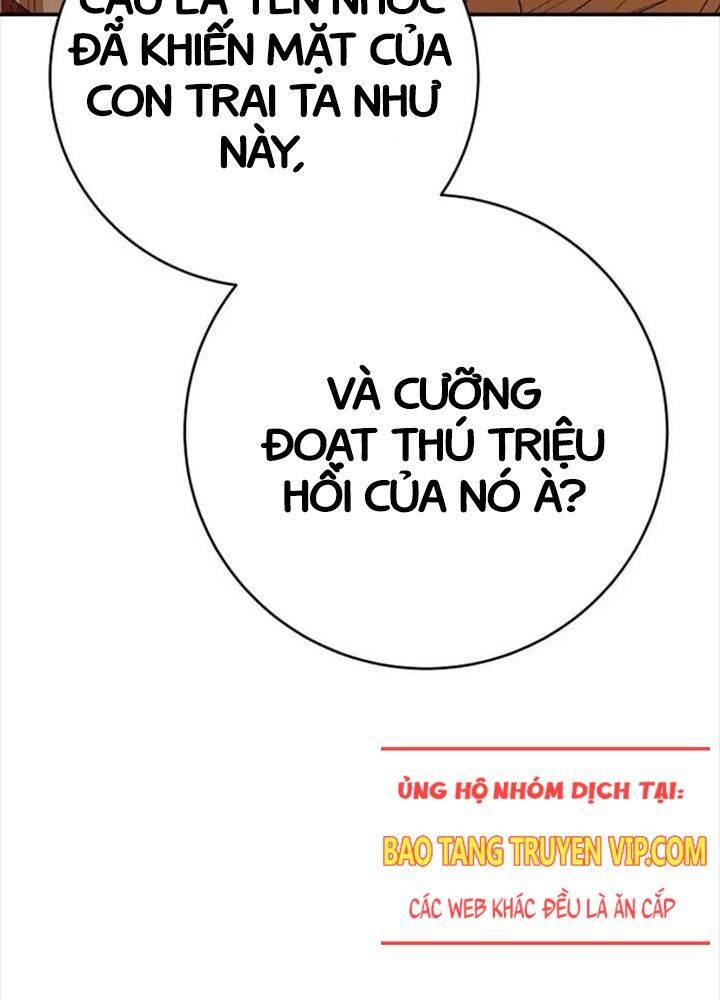quangcao: (380, 741, 720, 947)
